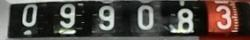digits: (207, 2, 240, 35), (168, 8, 194, 33), (136, 4, 154, 30), (60, 2, 76, 28), (98, 6, 114, 30), (21, 3, 37, 26)
